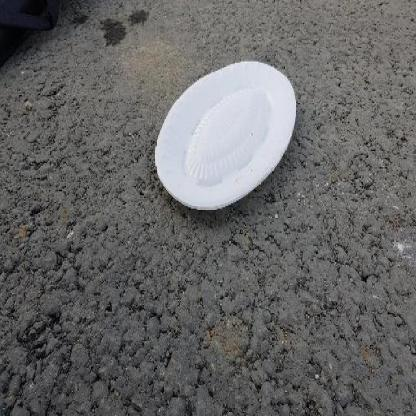Glass Cup: (154, 57, 297, 211), (155, 61, 296, 209)
